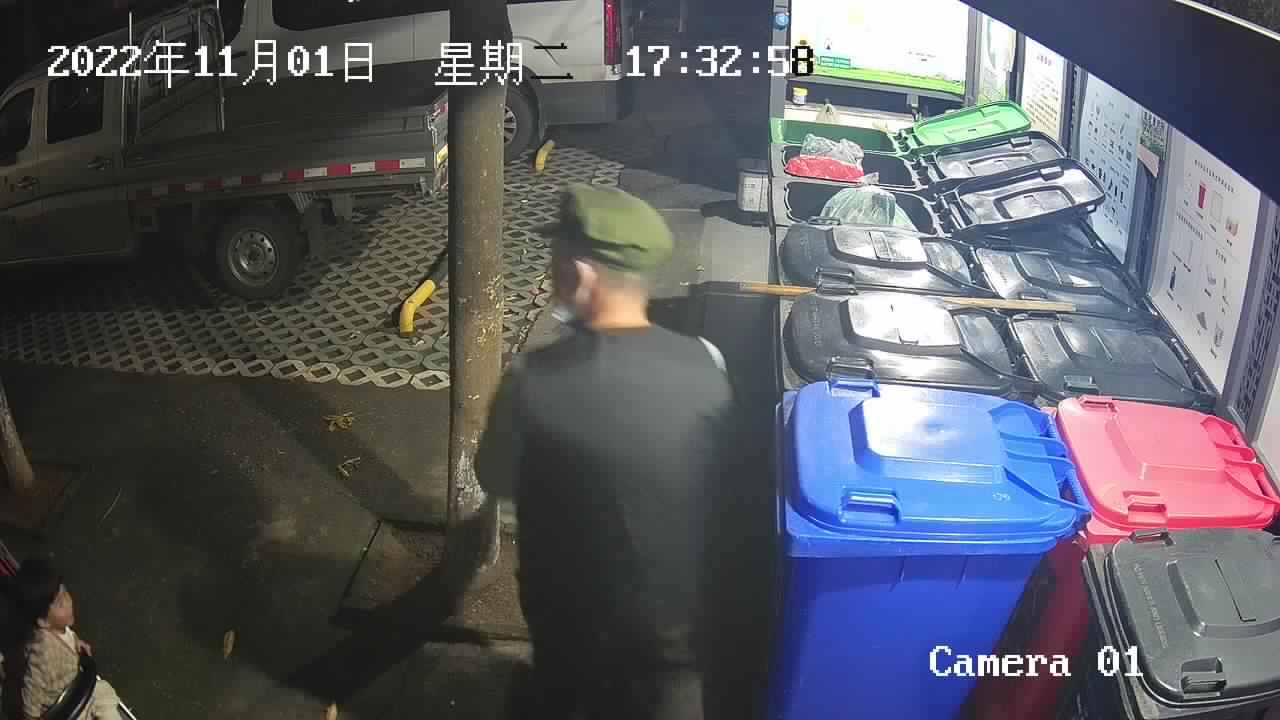person: (470, 179, 746, 720)
